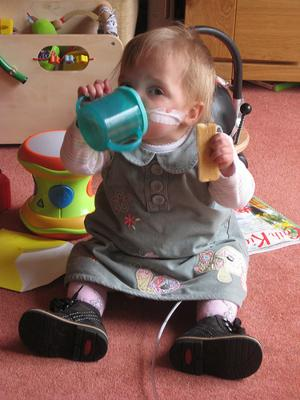person: (18, 21, 264, 387)
